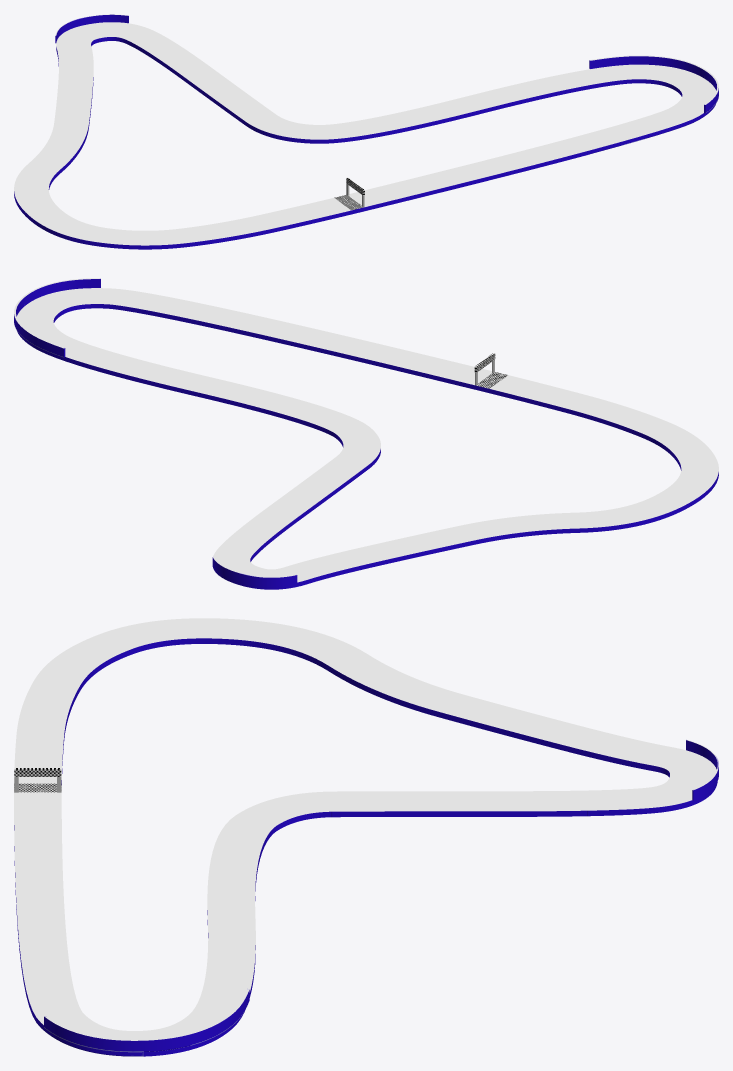
The model's file is track1.obj.
3 renders of one model, top to bottom at view 1: azimuth 30°, elevation 25°; view 2: azimuth 150°, elevation 25°; view 3: azimuth 270°, elevation 25°, orthographic. The views are drawn at different scales.
Visible parts, largest first — view 1: NurbsPath_NurbsPath.001; view 2: NurbsPath_NurbsPath.001; view 3: NurbsPath_NurbsPath.001.
Boxes of the visible parts, x1,y1,x2,y2 form: NurbsPath_NurbsPath.001: (14, 14, 718, 249); NurbsPath_NurbsPath.001: (14, 278, 718, 589); NurbsPath_NurbsPath.001: (14, 618, 718, 1056).
Bounding box in the file's own units: 63.49 × 1.99 × 43.58.
